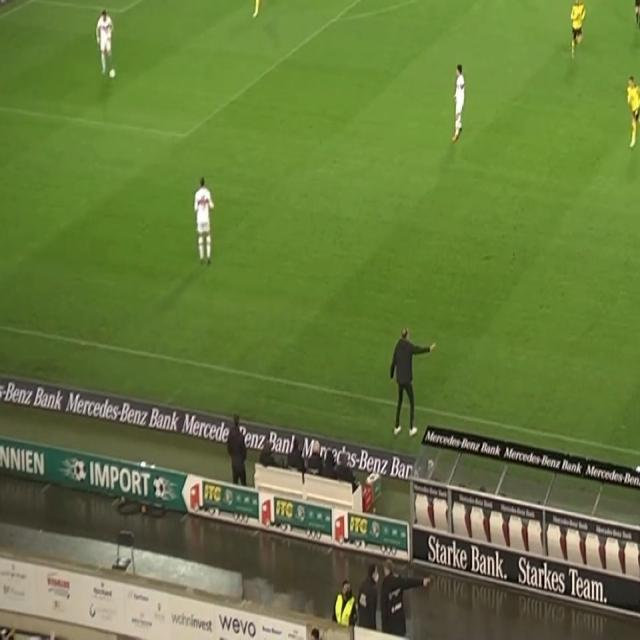ball: (109, 66, 116, 81)
